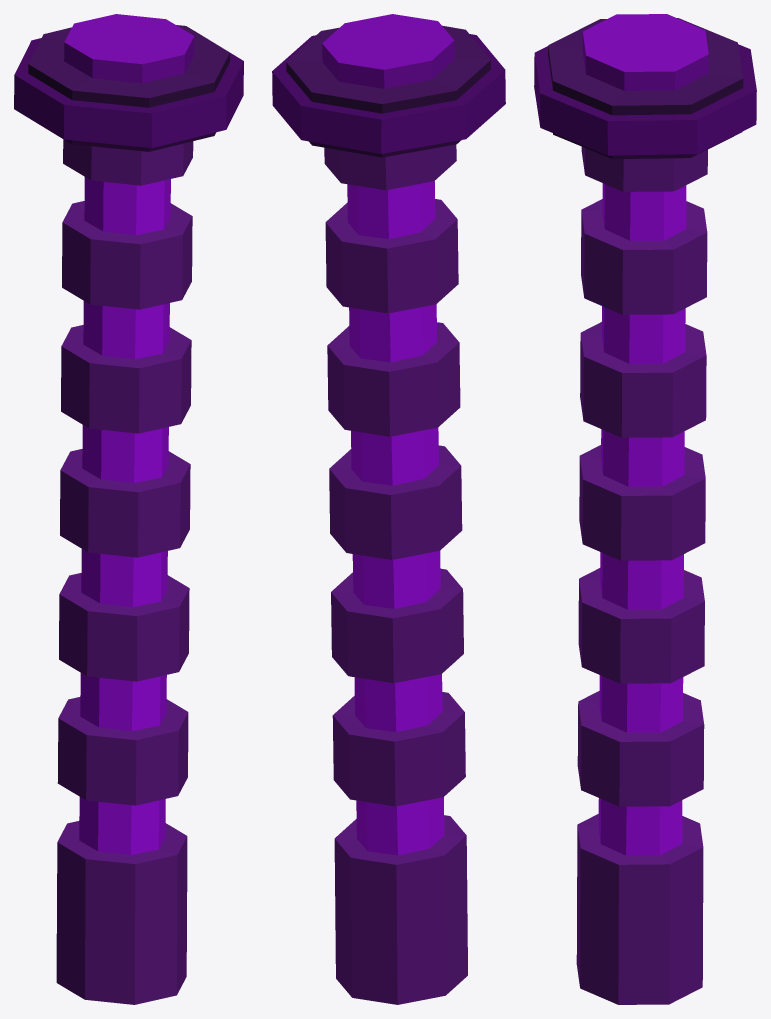
The model's file is fusion_rotate.fbx.
3 views of the same model, side by side, from view 1: azimuth 30°, elevation 25°; view 2: azimuth 150°, elevation 25°; view 3: azimuth 270°, elevation 25° (orthographic).
Parts seen in each view (by area): view 1: fusionRotate; view 2: fusionRotate; view 3: fusionRotate.
Part boxes in pixels (left/top/right/bottom): fusionRotate: left=14, top=14, right=243, bottom=1004; fusionRotate: left=272, top=14, right=505, bottom=1004; fusionRotate: left=534, top=14, right=756, bottom=1004.
Bounding box in the file's own units: 2.55 × 11.97 × 2.56.
